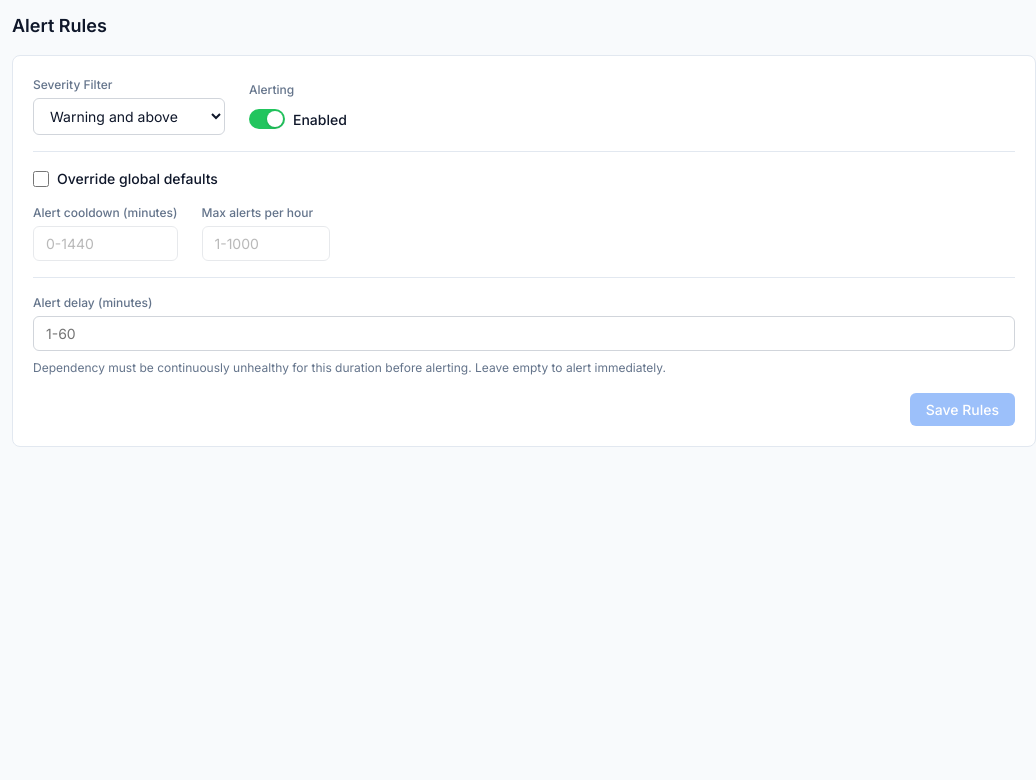
it: AlertRules › shows error when save fails
Select "All status changes" in the dropdown showing "Warning and above" at coordinates (129, 116), box top-left (33, 98), bottom-right (225, 135)
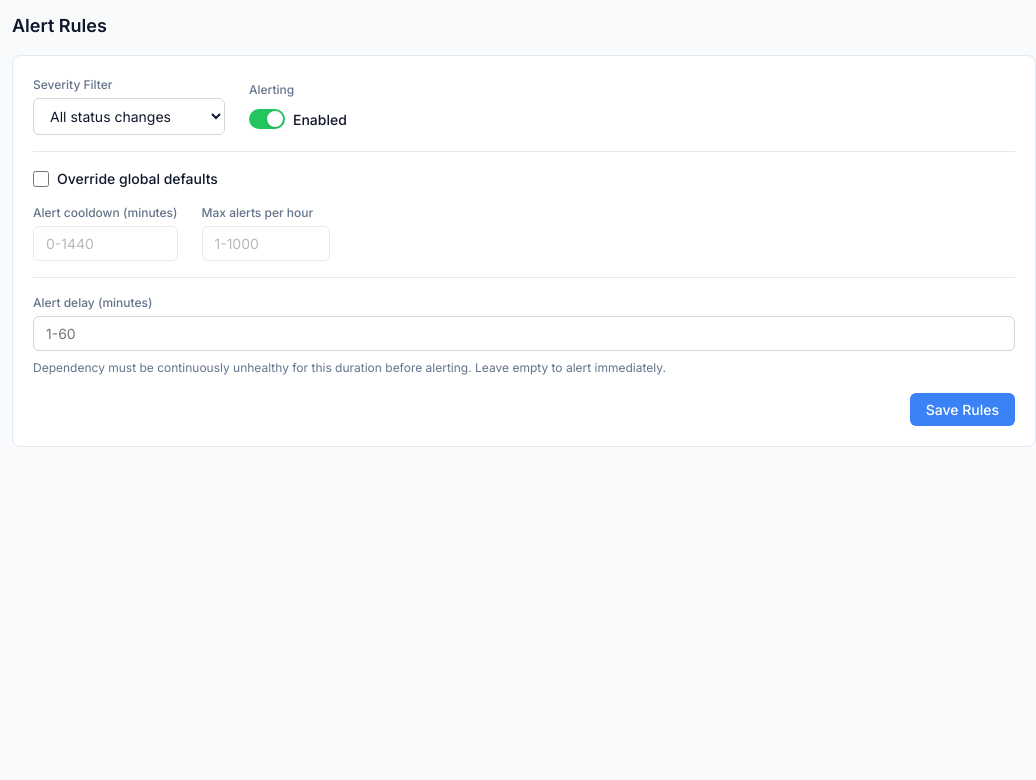
Click the button "Save Rules" at coordinates (962, 409), box top-left (910, 392), bottom-right (1015, 426)
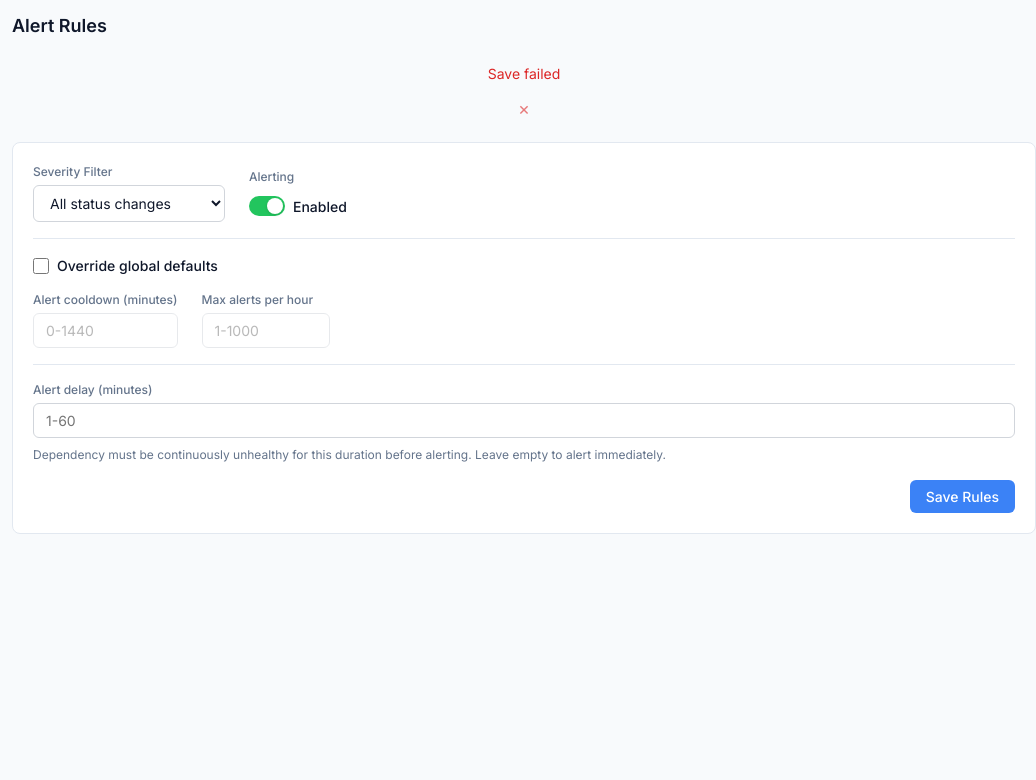
Expected: the text "Save failed" is shown, top-left (488, 65), bottom-right (560, 82)
